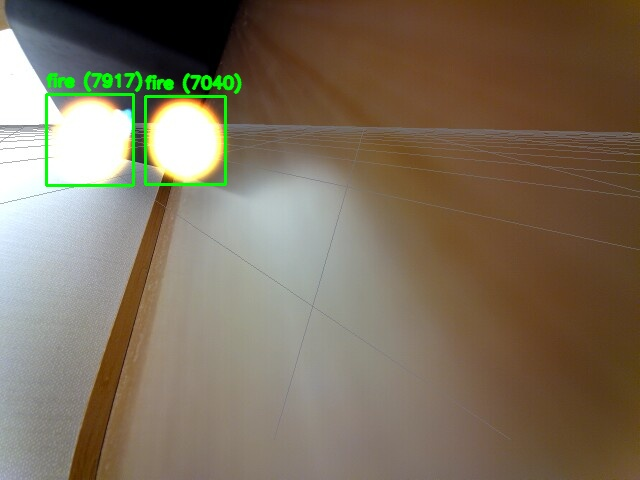fire: (46, 94, 133, 185), (145, 96, 225, 184)
